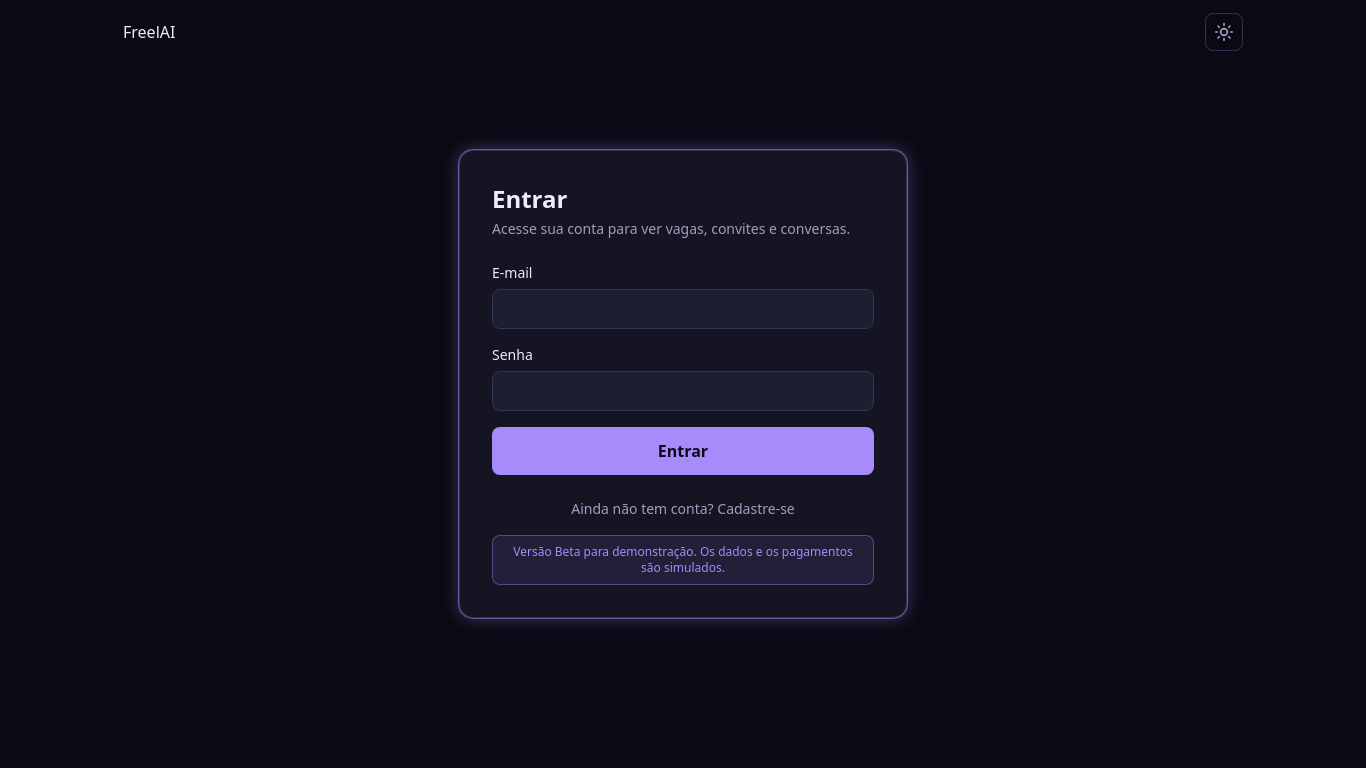
Test: Tela de login › CT-LOG-03: só a senha vazia mostra apenas a mensagem da senha
Type "maria@example.com" into the field labelled "E-mail" at (683, 309), box [492, 289, 874, 329]
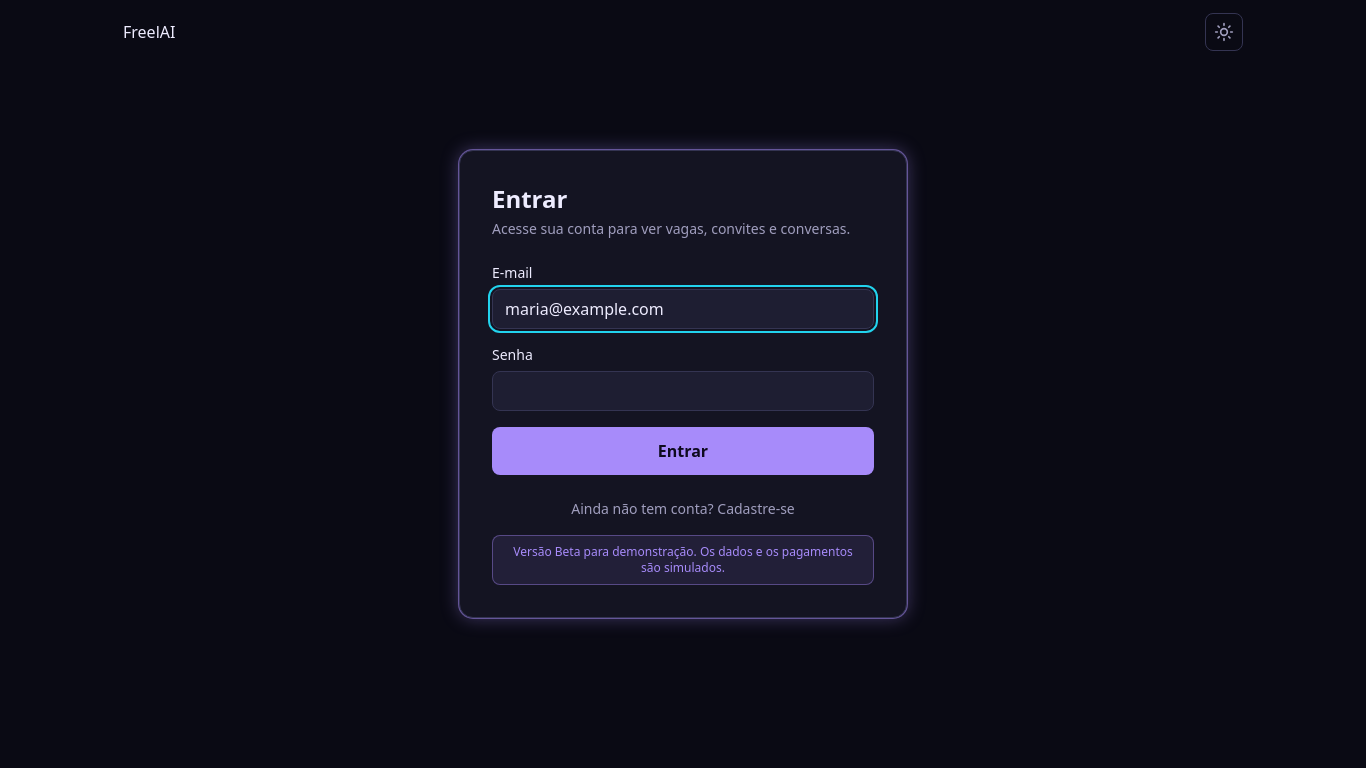
Click the button "Entrar" at (683, 451), box [492, 427, 874, 475]
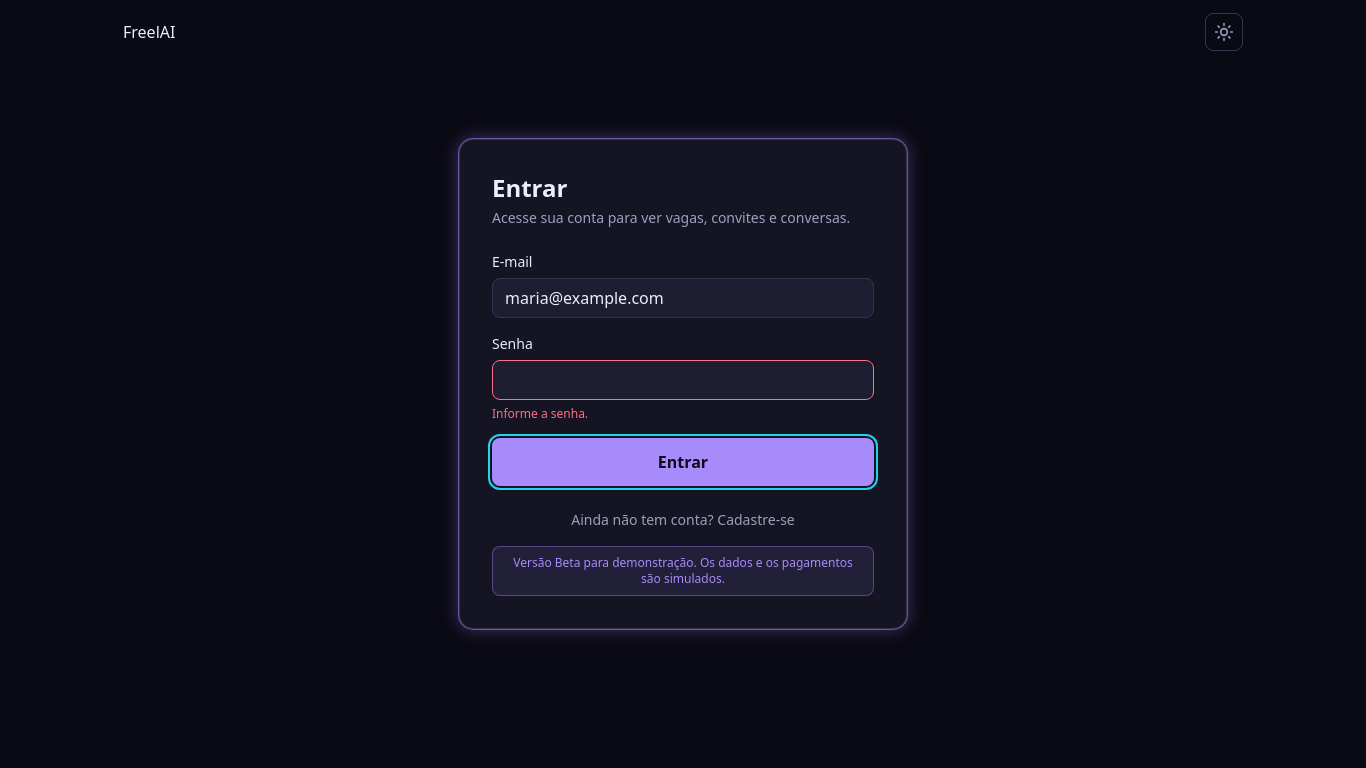
Expected: the text "Informe a senha." is shown, [492, 405, 588, 422]
